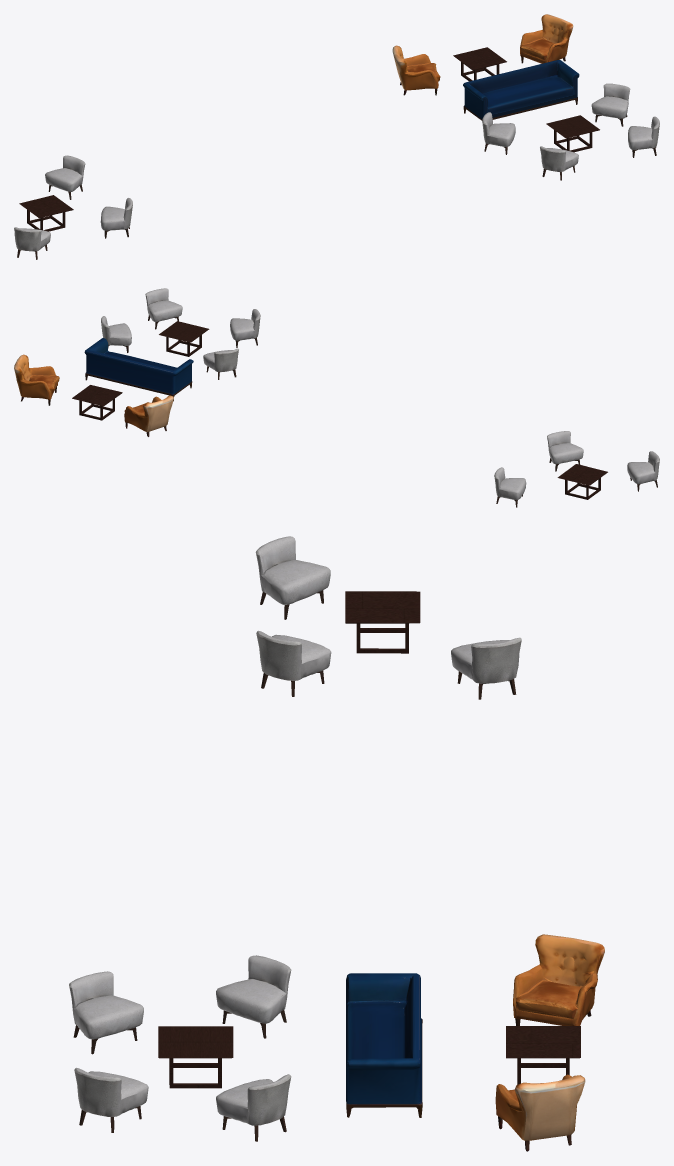
File: Chancery Rosewood_Pavillion_FURNITURE_BAKE_V4.glb
The picture shows the model from 3 angles, top to bottom: view 1: azimuth 30°, elevation 25°; view 2: azimuth 150°, elevation 25°; view 3: azimuth 270°, elevation 25°; orthographic projection. The views are drawn at different scales.
Visible parts, largest first — view 1: West Pavillion Furniture; view 2: West Pavillion Furniture; view 3: West Pavillion Furniture.
Boxes of the visible parts, left/top/right/bottom form: West Pavillion Furniture: left=14, top=14, right=659, bottom=259; West Pavillion Furniture: left=14, top=288, right=659, bottom=507; West Pavillion Furniture: left=69, top=536, right=604, bottom=1151.
Size of the model in its own units: 14.32 by 0.8452 by 5.73.
4 materials, 4 textured.
